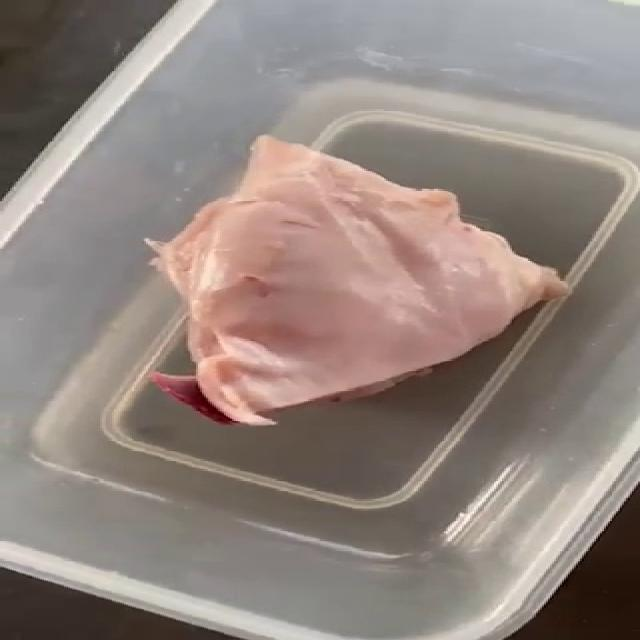chicken: (145, 137, 583, 427)
